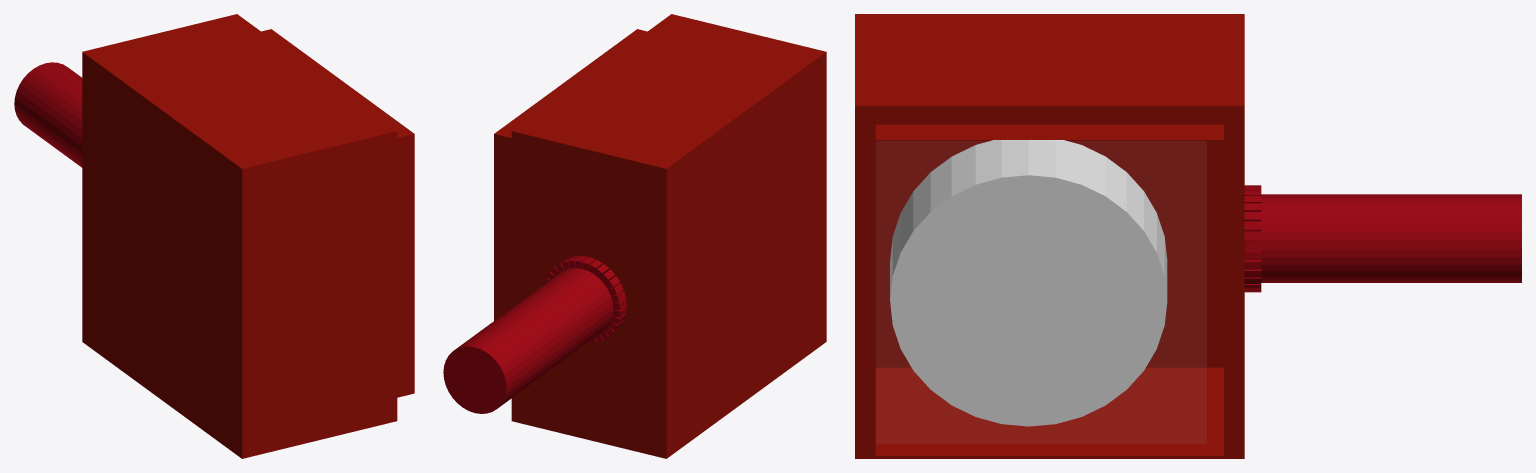
Rendered from PSAILLO NUEVO 1.fbx.
3 views of the same model, side by side, from view 1: azimuth 30°, elevation 25°; view 2: azimuth 150°, elevation 25°; view 3: azimuth 270°, elevation 25° (orthographic). The views are drawn at different scales.
Parts seen in each view (by area): view 1: Cube, Cylinder.001; view 2: Cube, Cylinder.001; view 3: Cube, Cylinder, Cylinder.001.
Part boxes in pixels (x1,y1,x2,y2): Cube: (82, 14, 414, 458); Cylinder.001: (14, 62, 82, 167); Cube: (494, 14, 826, 458); Cylinder.001: (443, 256, 626, 413); Cube: (855, 14, 1244, 458); Cylinder: (890, 140, 1167, 426); Cylinder.001: (1244, 185, 1521, 292).
Bounding box in the file's own units: 131 × 200 × 342.
